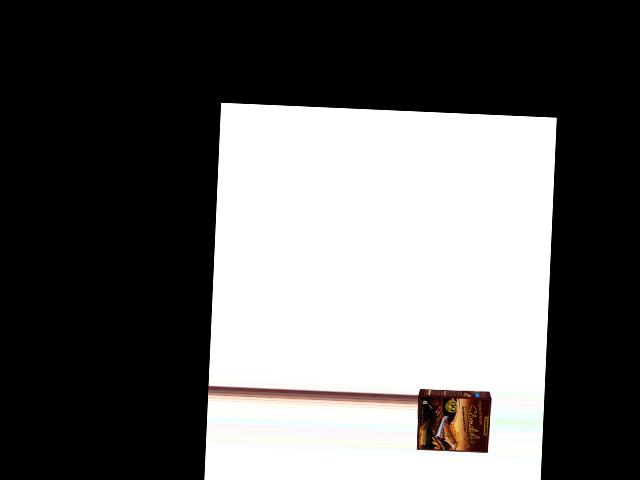chocolate: (415, 385, 492, 459)
